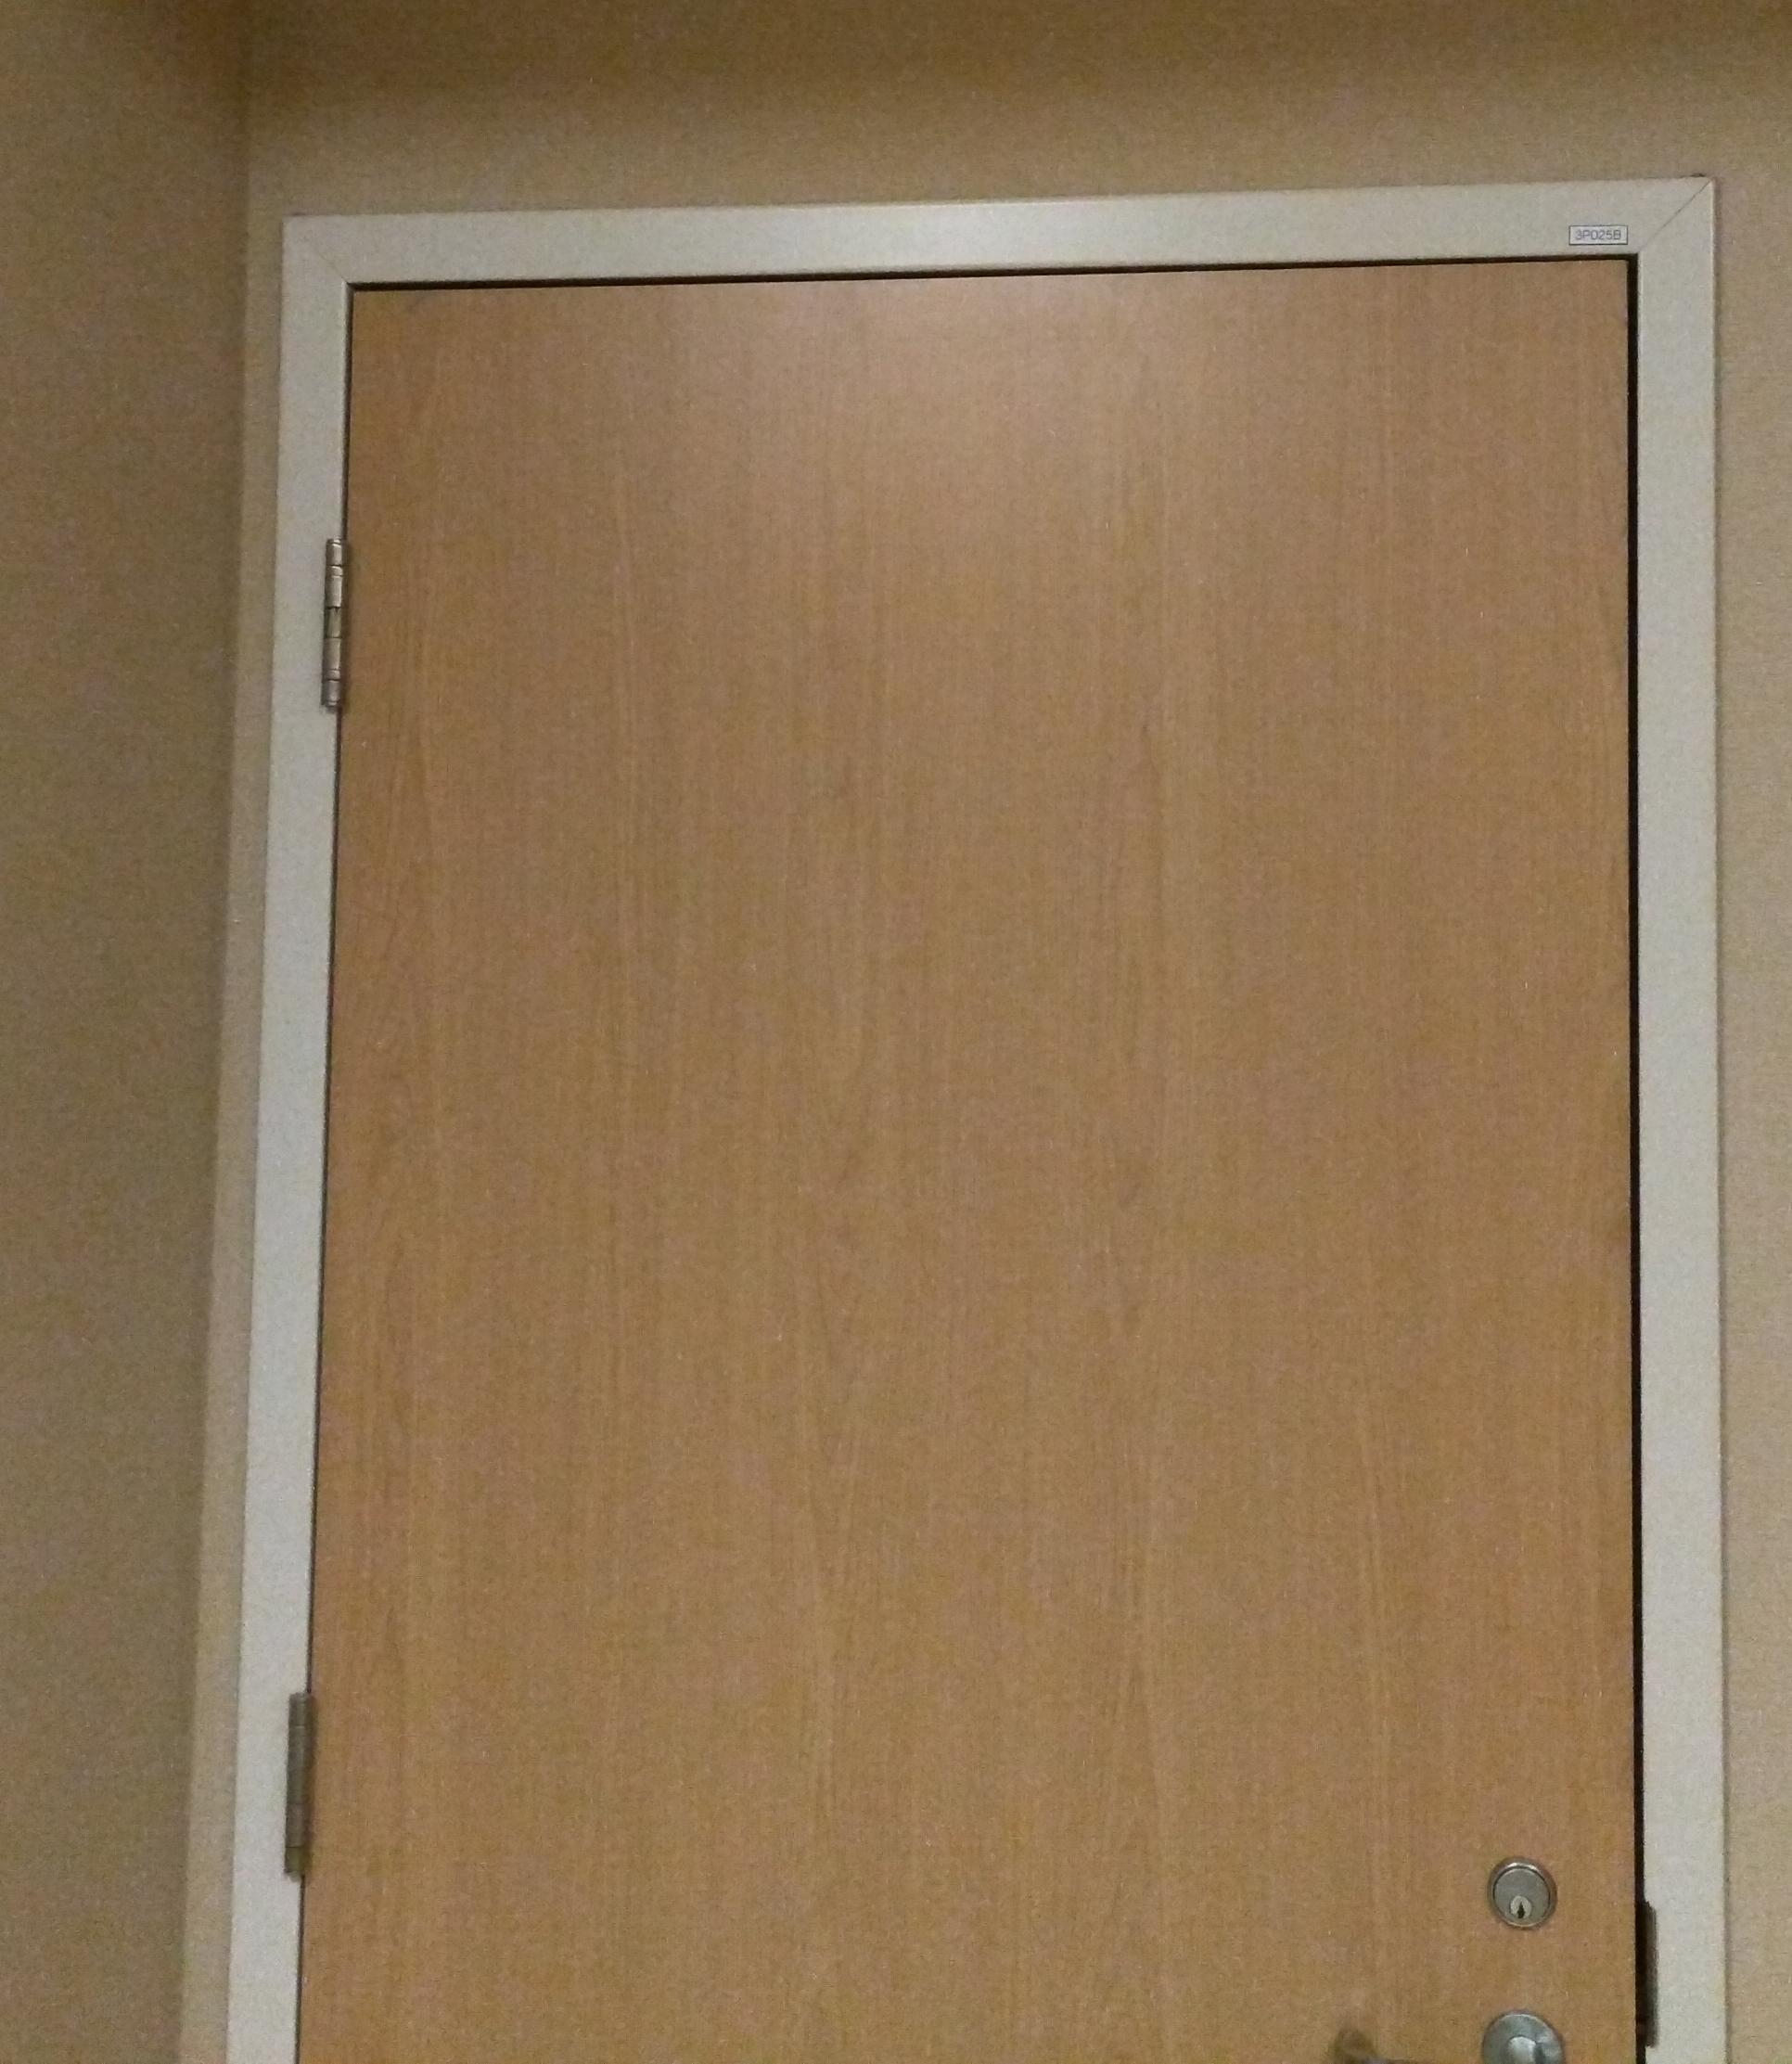door: (232, 181, 1729, 2059)
